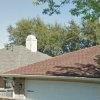Chimney: (19, 27, 39, 60)
